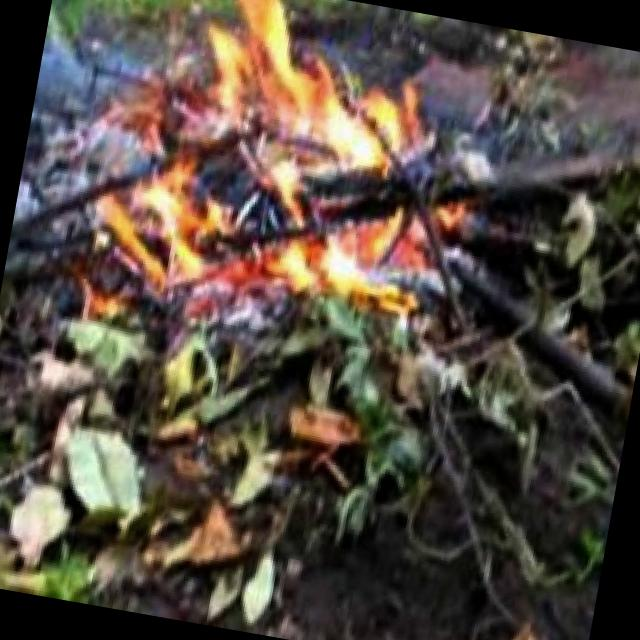fire: (97, 0, 463, 342)
